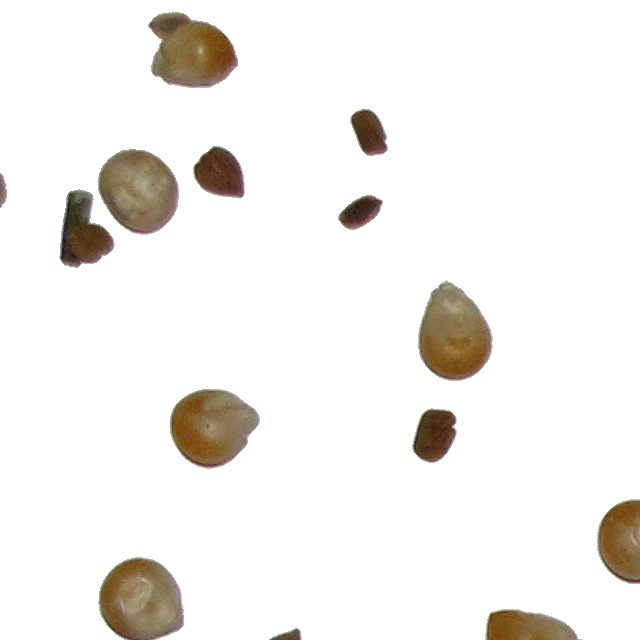buckwheat: (58, 188, 116, 269), (192, 145, 246, 199), (411, 407, 458, 464), (349, 108, 389, 157), (337, 194, 373, 237), (254, 627, 306, 640)
mais: (417, 279, 494, 382), (169, 388, 261, 470), (97, 556, 185, 640), (97, 148, 180, 236), (147, 11, 239, 89), (596, 498, 640, 585), (484, 608, 592, 640)
